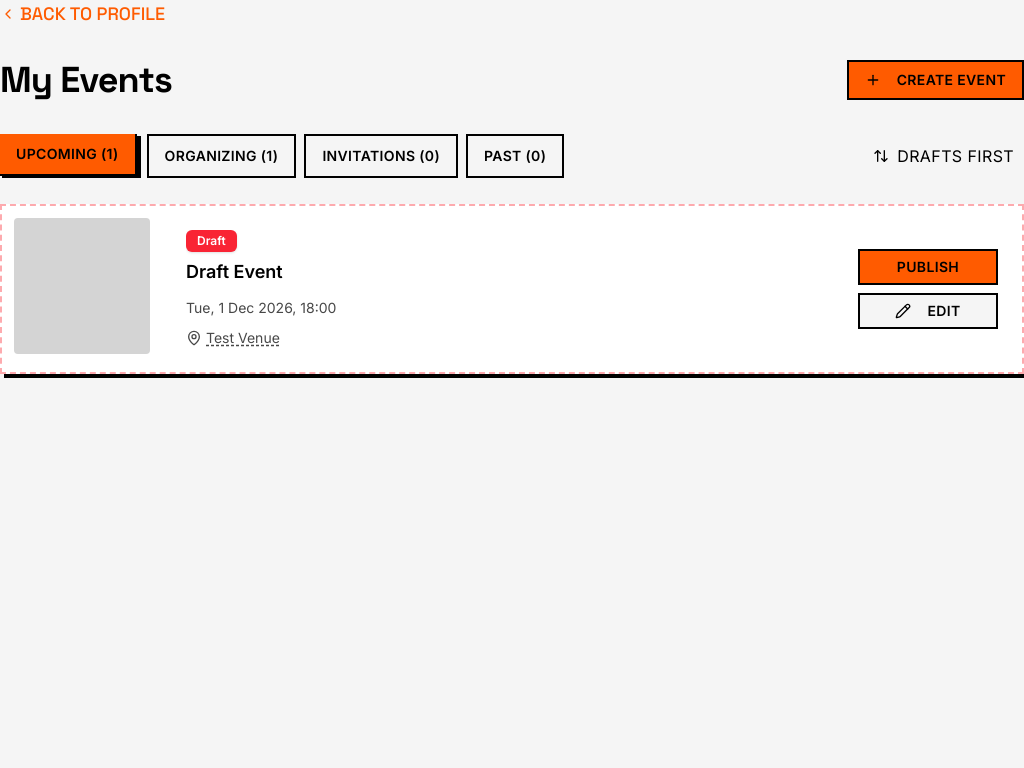
Test: My Events Page › Publish Dialog › should open publish confirmation dialog when Publish is clicked
The width and height of the screenshot is (1024, 768).
Expected: the heading "My Events" is shown, [0,60,172,100]
Click the button "Publish" at (928, 267), box [858,249,998,285]
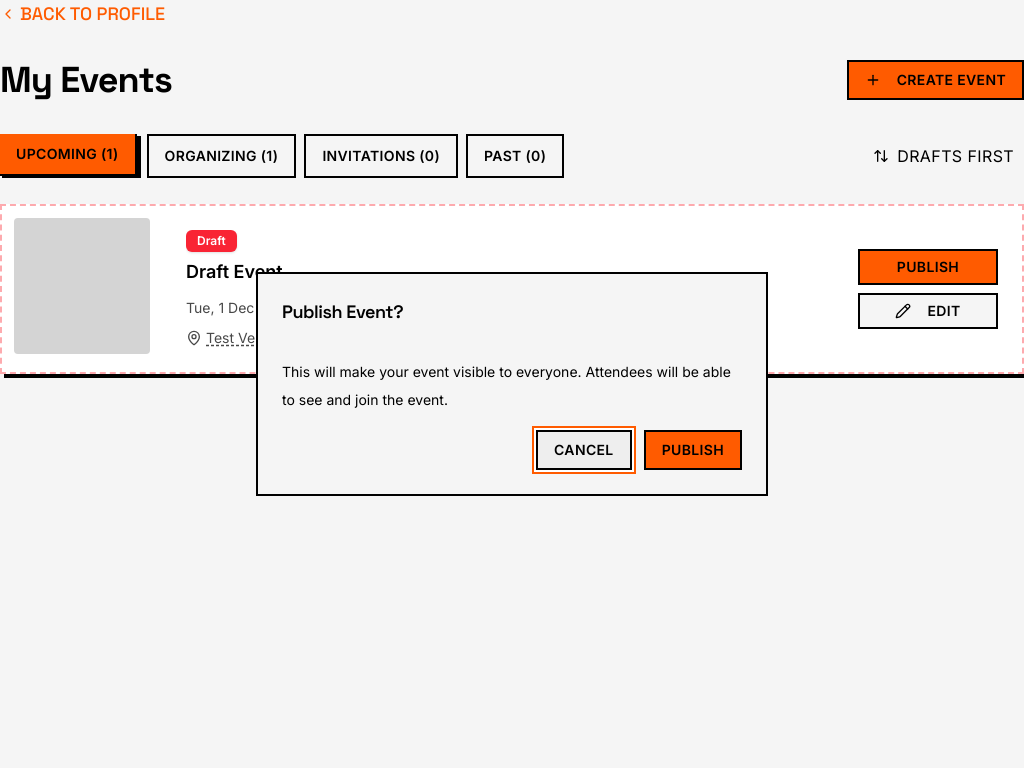
Expected: the heading "Publish Event?" is shown, [282,300,403,323]
Expected: the text "make your event visible to everyone" is shown, [282,363,731,408]
